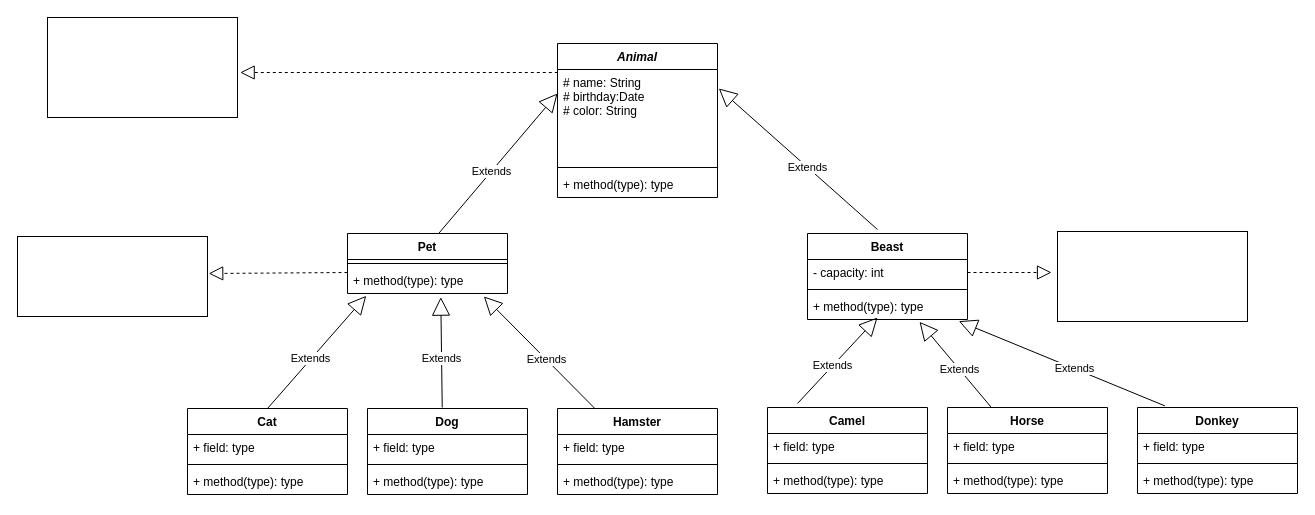
Image size: 1315x515. Some labels were removed from this diagram. Each missing label, with the centre of its shape:
"<<Interface>> IMove + go(): void +stop(): void" belongs at (1152,276).
"<<Interface>> IStand + stand(): void" belongs at (112,276).
"<<Interface>> IVoice + voice(): void" belongs at (142,67).
